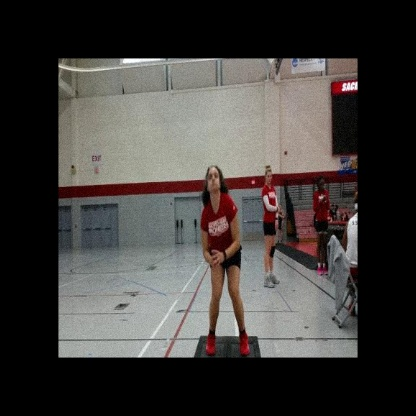lateral_flexion_right: (199, 162, 251, 358)
stance_width_broad: (200, 191, 251, 358)
